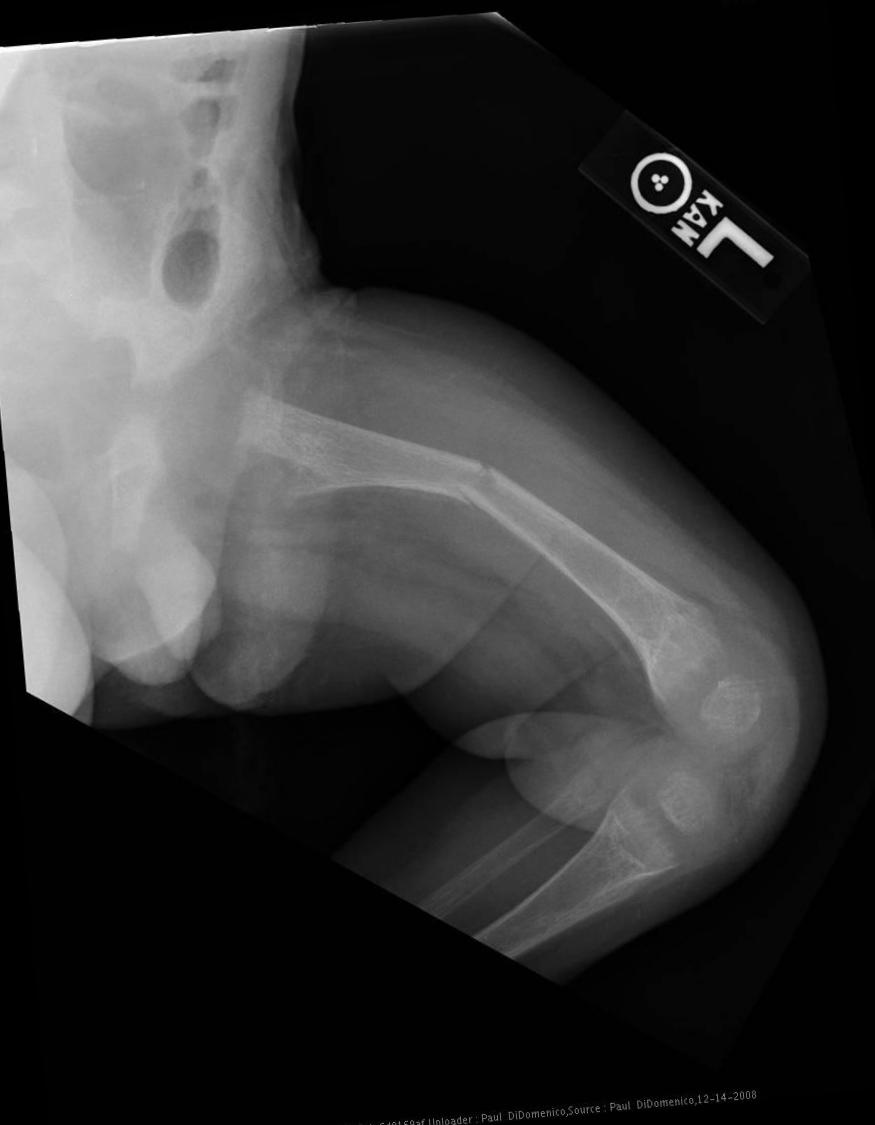angle: (452, 458, 500, 512)
